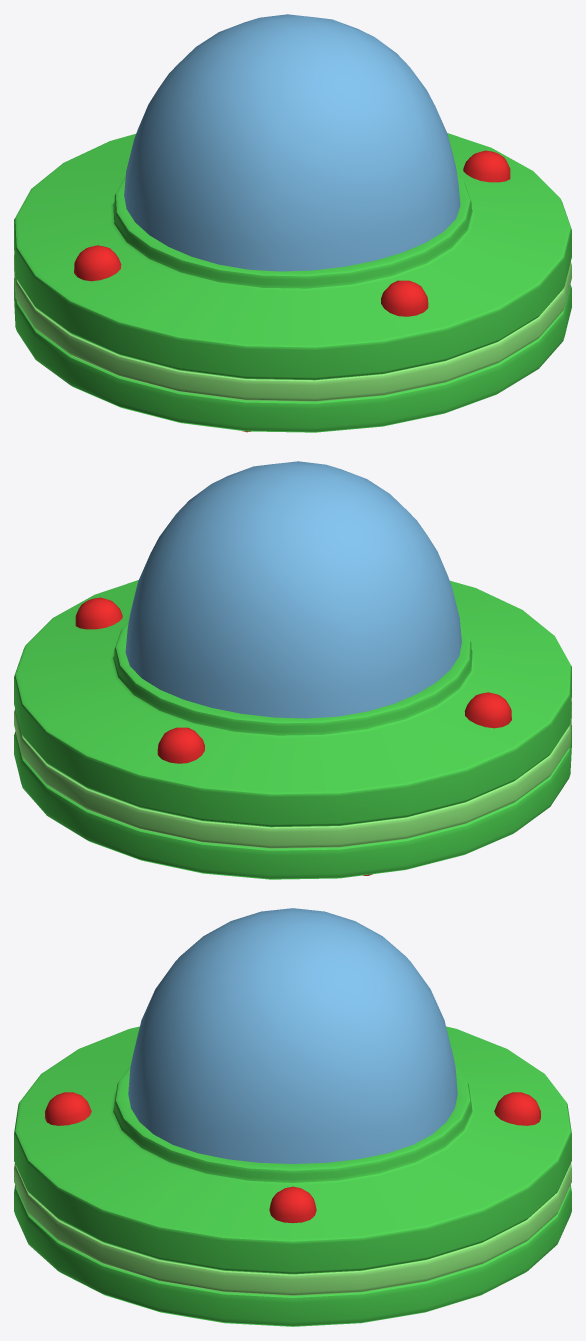
Rendered from ufo_geo.fbx.
3 renders of one model, top to bottom at view 1: azimuth 30°, elevation 25°; view 2: azimuth 150°, elevation 25°; view 3: azimuth 270°, elevation 25°, orthographic.
Parts seen in each view (by area): view 1: ufo; view 2: ufo; view 3: ufo.
Boxes of the visible parts, <box> form: ufo: <box>14,14,571,432</box>; ufo: <box>14,461,571,879</box>; ufo: <box>14,908,571,1326</box>.
Size of the model in its own units: 5.98 by 3.98 by 5.99.
